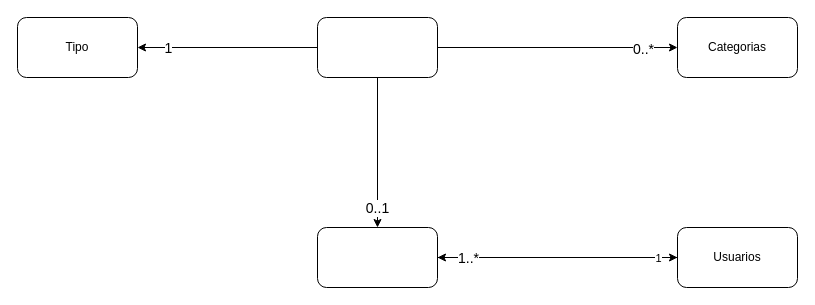
This 815x305 diagram has some shape labels left out. Here are the shapes that lost their labels. From the top down, the box of each, then its label:
(316, 16, 438, 78): Items
(316, 226, 438, 288): Prestamos
